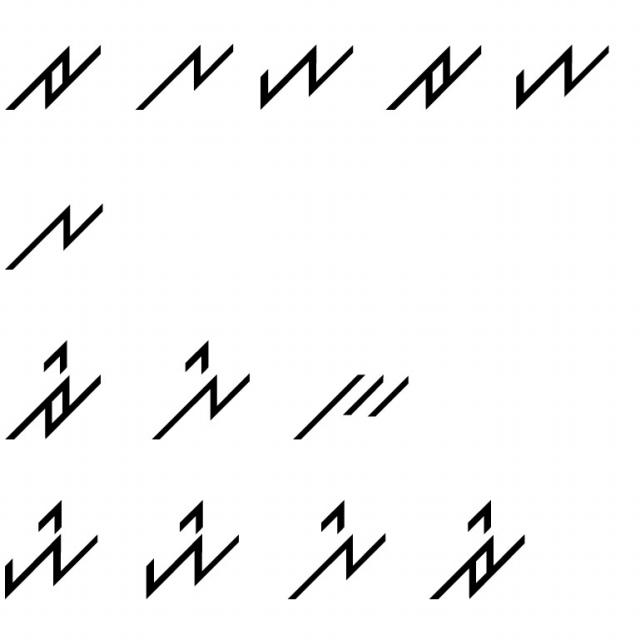la: (128, 27, 238, 119), (4, 190, 109, 280)
li: (280, 488, 392, 612), (149, 326, 254, 443)
ra: (380, 25, 491, 119), (5, 36, 109, 114)
ri: (4, 327, 110, 447), (427, 501, 533, 603)
ya: (506, 29, 614, 121), (250, 30, 358, 112)
yi: (2, 487, 105, 599), (137, 497, 245, 602)
